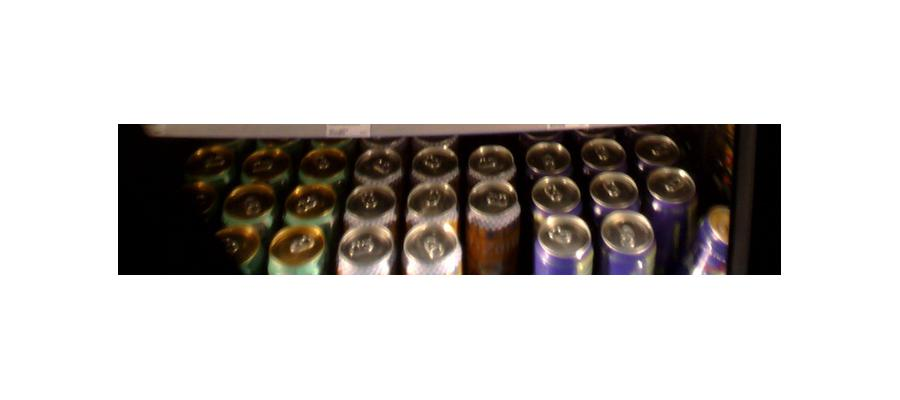bottle: (462, 174, 524, 271), (404, 177, 457, 277), (647, 164, 694, 270), (603, 199, 655, 278), (535, 207, 590, 278), (694, 201, 730, 276)
